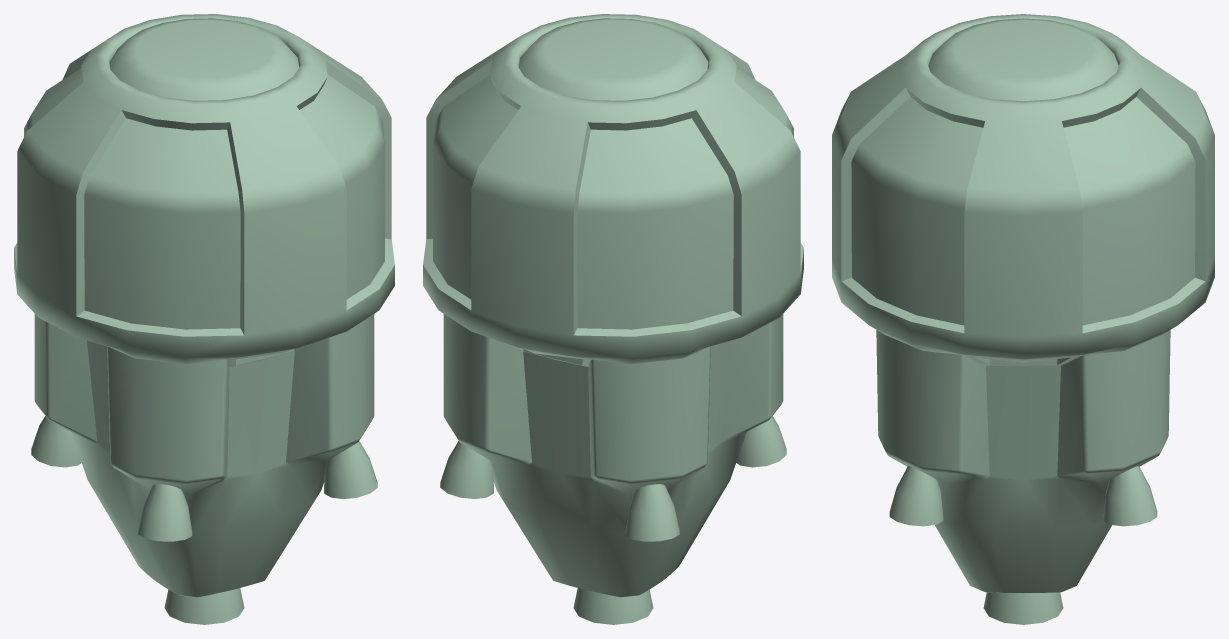
File: REENTRY_CRAFT_BODY_noHOLES_mesh.fbx
3 views of the same model, side by side, from view 1: azimuth 30°, elevation 25°; view 2: azimuth 150°, elevation 25°; view 3: azimuth 270°, elevation 25° (orthographic).
Parts seen in each view (by area): view 1: POD_BOD_NOHOLES; view 2: POD_BOD_NOHOLES; view 3: POD_BOD_NOHOLES.
Boxes of the visible parts, left/top/right/bottom form: POD_BOD_NOHOLES: left=14, top=14, right=394, bottom=624; POD_BOD_NOHOLES: left=423, top=14, right=803, bottom=624; POD_BOD_NOHOLES: left=832, top=14, right=1214, bottom=624.
Bounding box in the file's own units: 5.8 × 9.33 × 5.8.
